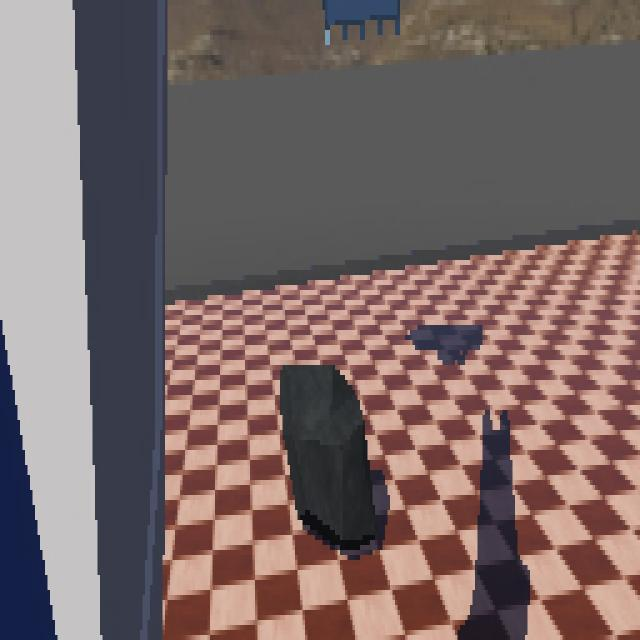rock: (279, 360, 378, 556)
